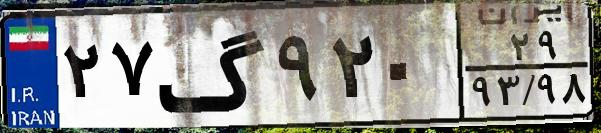0: (385, 28, 445, 110)
2: (330, 28, 385, 110), (57, 26, 110, 100), (508, 27, 537, 80)
3: (495, 70, 520, 125)
7: (110, 28, 156, 98)
8: (560, 70, 590, 125)
9: (270, 28, 330, 110), (537, 27, 568, 80), (470, 70, 495, 125), (535, 70, 560, 125)
گ: (156, 12, 270, 120)
